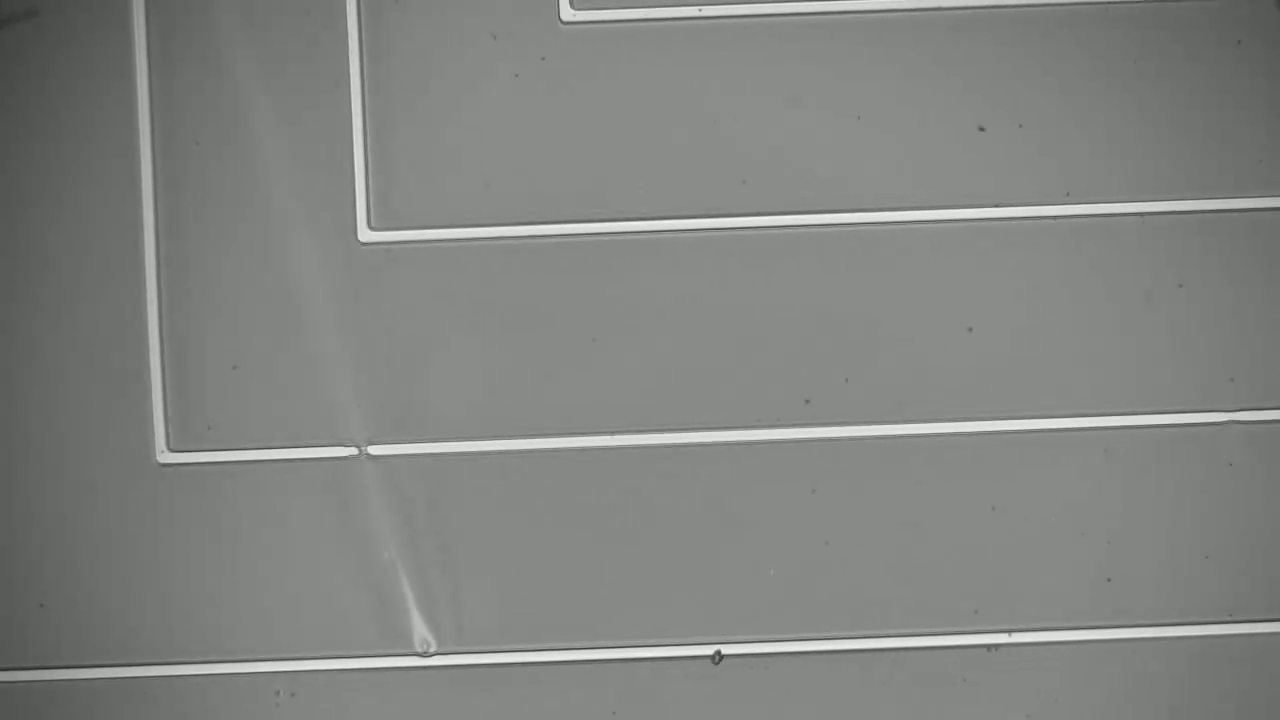open: (343, 437, 381, 470)
stains_enbedded: (698, 629, 742, 681)
